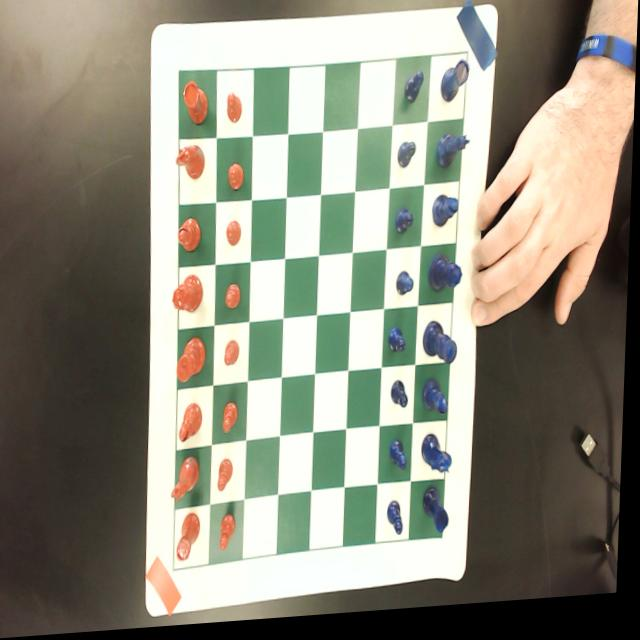B: (425, 383, 453, 423), (433, 200, 461, 235)
K: (425, 326, 461, 373)
N: (437, 135, 471, 178), (425, 440, 458, 484)
P: (405, 75, 426, 112), (392, 444, 413, 479), (390, 506, 409, 542), (396, 211, 417, 242), (398, 147, 419, 176), (393, 385, 412, 416), (397, 276, 417, 303), (391, 333, 410, 360)
Q: (430, 260, 465, 301)
R: (425, 494, 455, 543), (442, 65, 472, 111)
b: (183, 404, 206, 446), (179, 218, 203, 257)
cb: (178, 60, 468, 574)
k: (179, 339, 210, 387)
n: (173, 459, 205, 509), (177, 145, 208, 186)
p: (223, 517, 241, 557), (221, 462, 238, 497), (225, 404, 242, 439), (228, 165, 247, 196), (227, 95, 244, 128), (227, 286, 244, 315), (227, 223, 244, 252), (226, 344, 243, 371)
q: (174, 277, 205, 317)
r: (182, 82, 211, 131), (180, 515, 206, 567)
